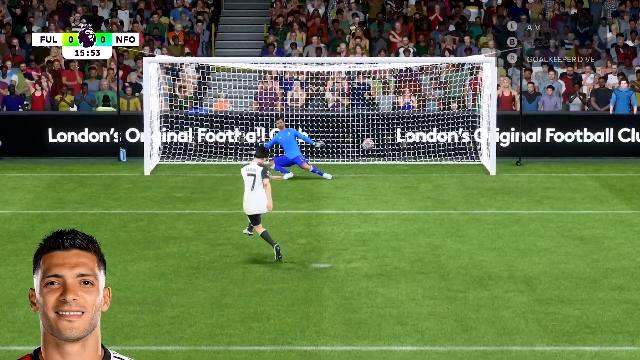bottom-left: (152, 116, 268, 174)
bottom-right: (380, 118, 490, 176)
center-down: (268, 116, 378, 178)
center-up: (269, 64, 379, 115)
football: (360, 137, 378, 151)
goalkeeper: (266, 114, 328, 184)
player: (236, 146, 294, 266)
top-left: (153, 64, 267, 114)
top-right: (381, 64, 492, 116)
